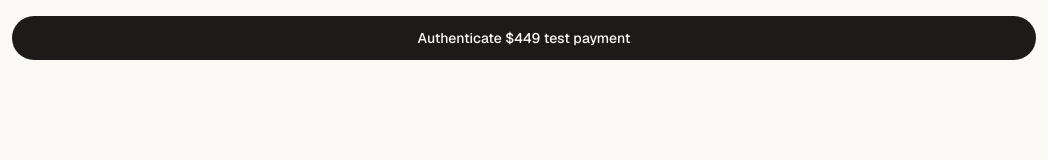
authentication recovery handles the same intent client secret
The width and height of the screenshot is (1048, 160).
Click the button "Authenticate $449 test payment". click: [524, 38]
box: [12,16,1036,60]
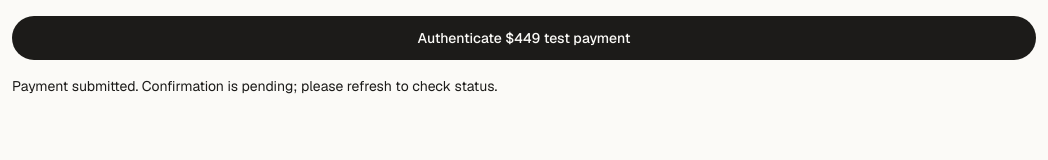
Result: the text "Payment submitted. Confirmation is pending; please refresh to check status." is shown at [12,77,497,95]
